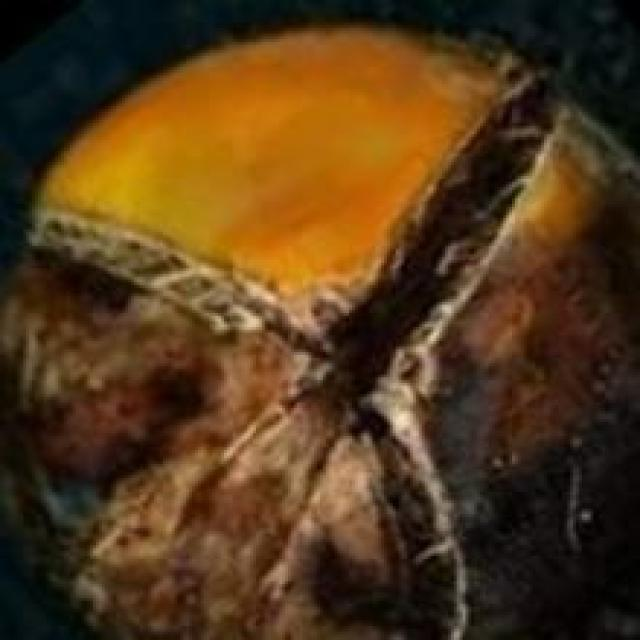damaged: (0, 20, 637, 637)
